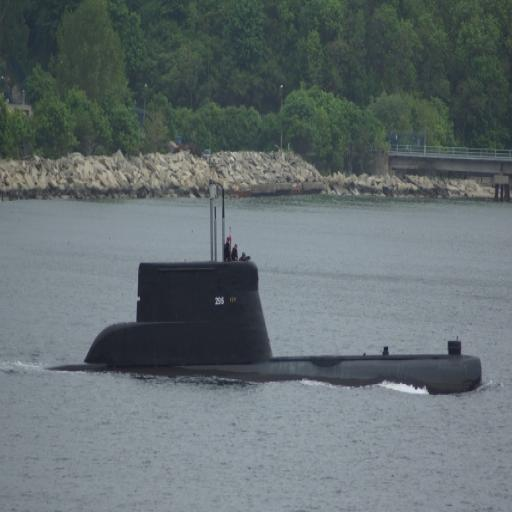submarine: (45, 263, 491, 373)
